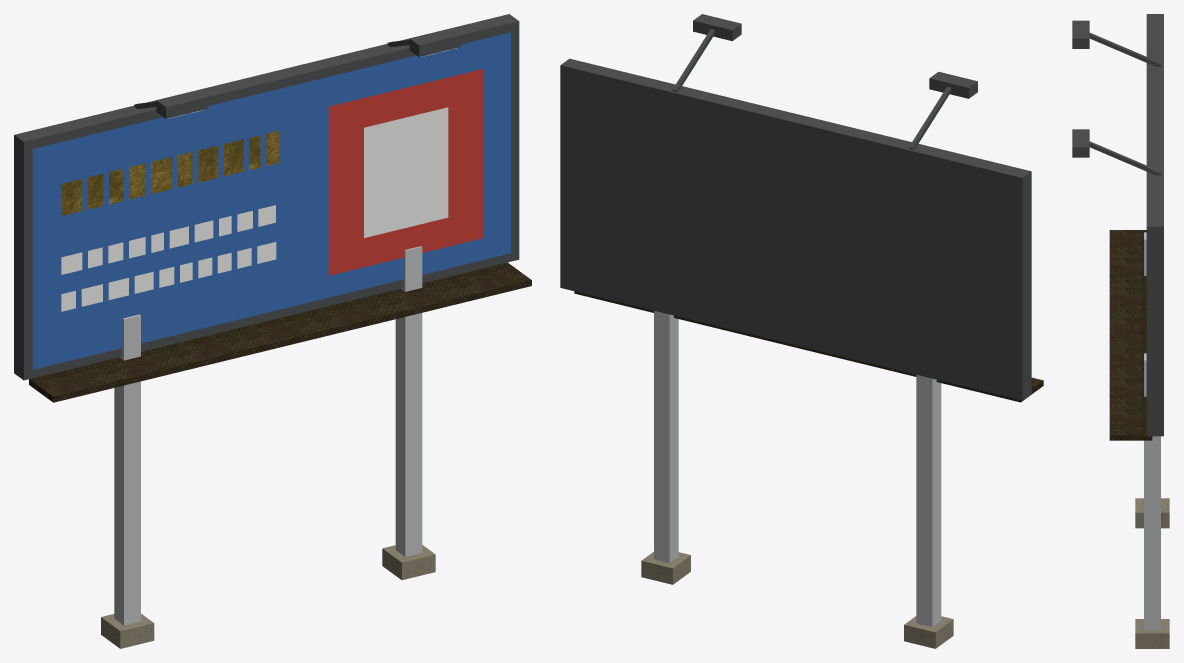
Rendered from billboard.glb.
3 renders of one model, left to right at view 1: azimuth 30°, elevation 25°; view 2: azimuth 150°, elevation 25°; view 3: azimuth 270°, elevation 25°, orthographic. The views are drawn at different scales.
Parts seen in each view (by area): view 1: billboard_body; view 2: billboard_body; view 3: billboard_body.
Part boxes in pixels (bbox=[...]): billboard_body: bbox=[14, 14, 531, 648]; billboard_body: bbox=[560, 14, 1043, 648]; billboard_body: bbox=[1072, 14, 1169, 648].
Bounding box in the file's own units: 0.352 × 0.384 × 0.068.
9 materials, 3 textured.
